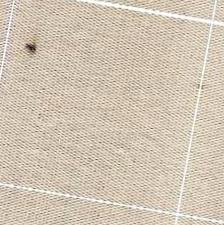stain: (23, 38, 41, 59)
